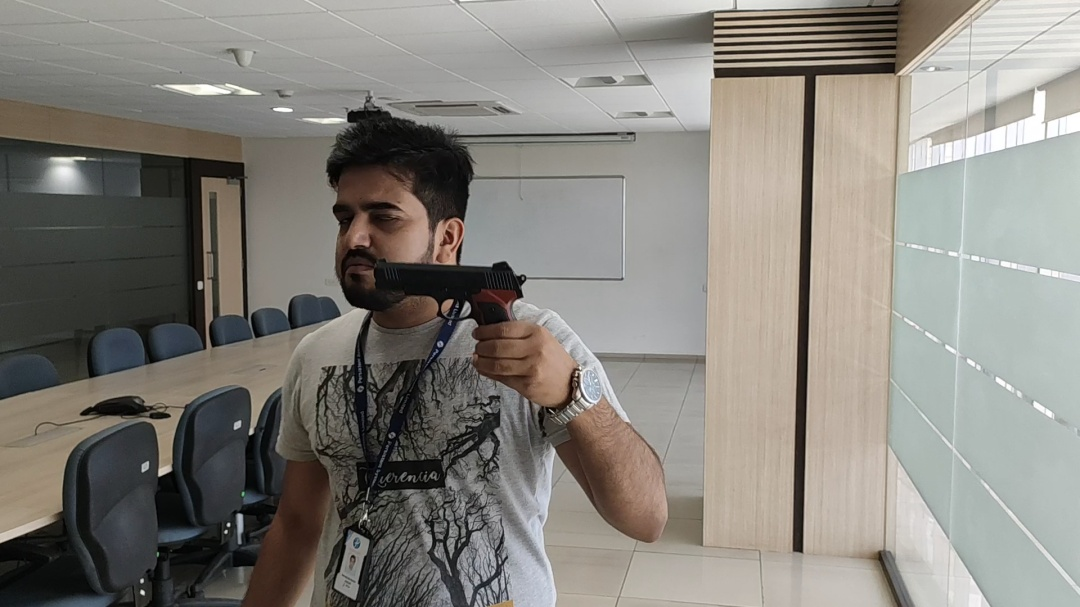gun: (369, 247, 530, 332)
